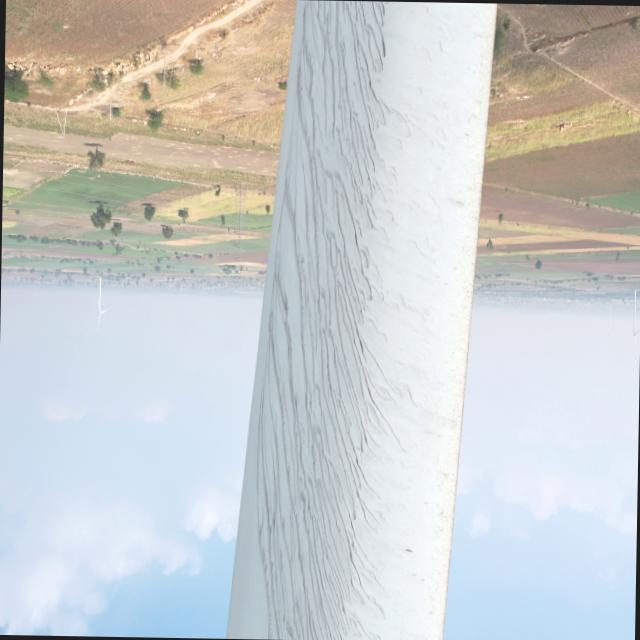Dirt: (228, 5, 475, 640)
